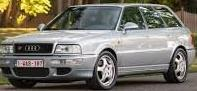Crossovers: (1, 5, 196, 90)
